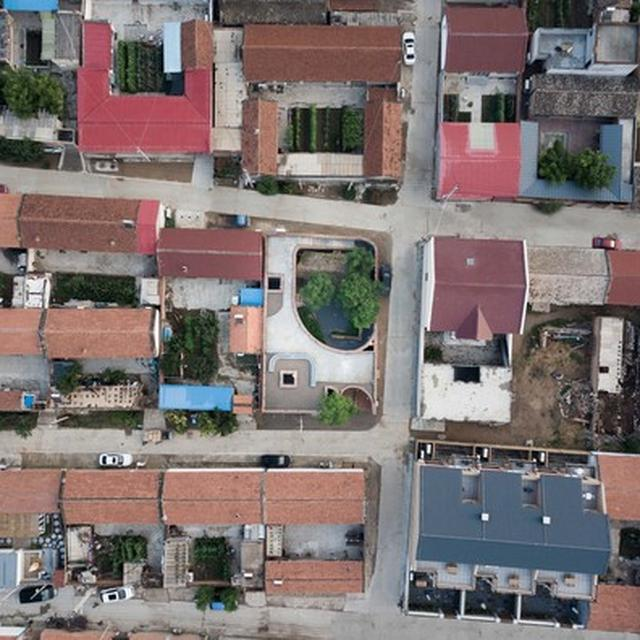building: (412, 454, 606, 630), (81, 18, 213, 156), (241, 20, 405, 88), (422, 236, 527, 339), (524, 111, 635, 204), (19, 187, 160, 260), (434, 112, 524, 204), (40, 306, 162, 362), (263, 467, 368, 527), (60, 466, 158, 530), (161, 466, 261, 526), (529, 23, 640, 76), (439, 9, 526, 76), (155, 226, 262, 280), (526, 240, 608, 306), (0, 462, 62, 523), (264, 560, 362, 594), (587, 578, 640, 640), (598, 452, 640, 526), (0, 546, 62, 588), (157, 384, 234, 414), (610, 245, 640, 310), (230, 300, 260, 357)
